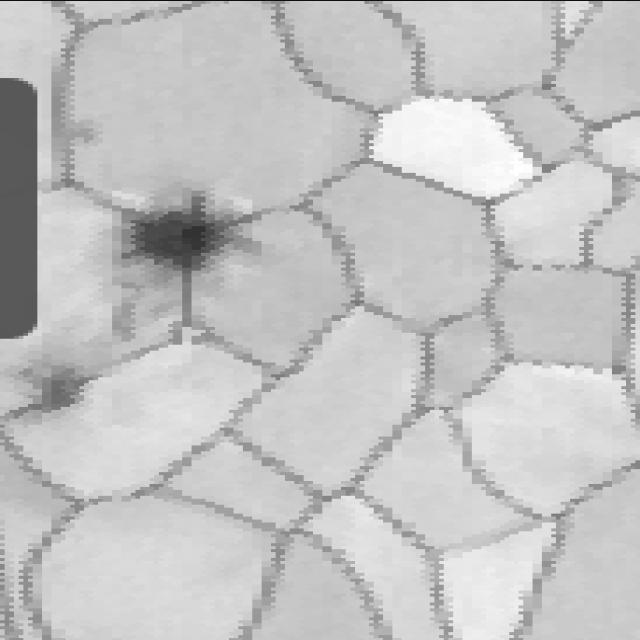good_void: (125, 202, 261, 275), (31, 358, 94, 407), (63, 102, 119, 152)
